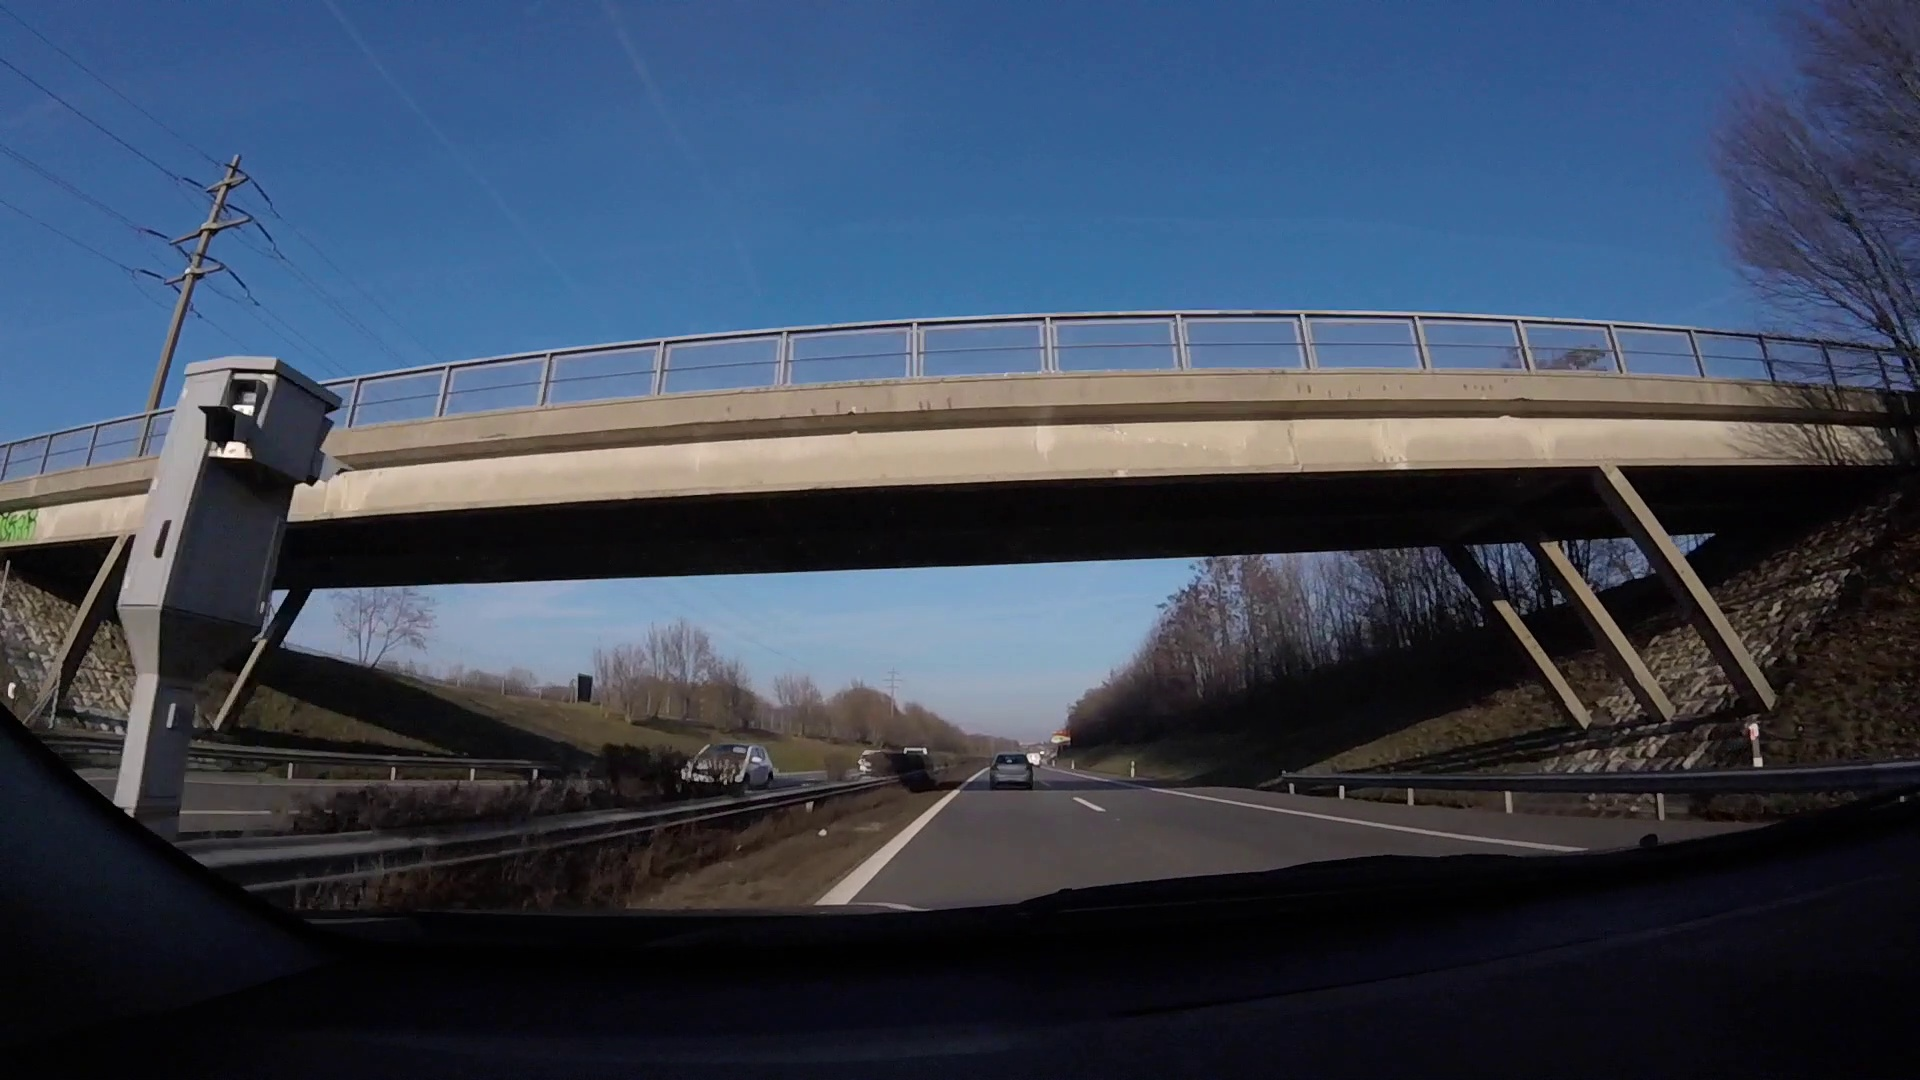radar: (117, 355, 342, 847)
